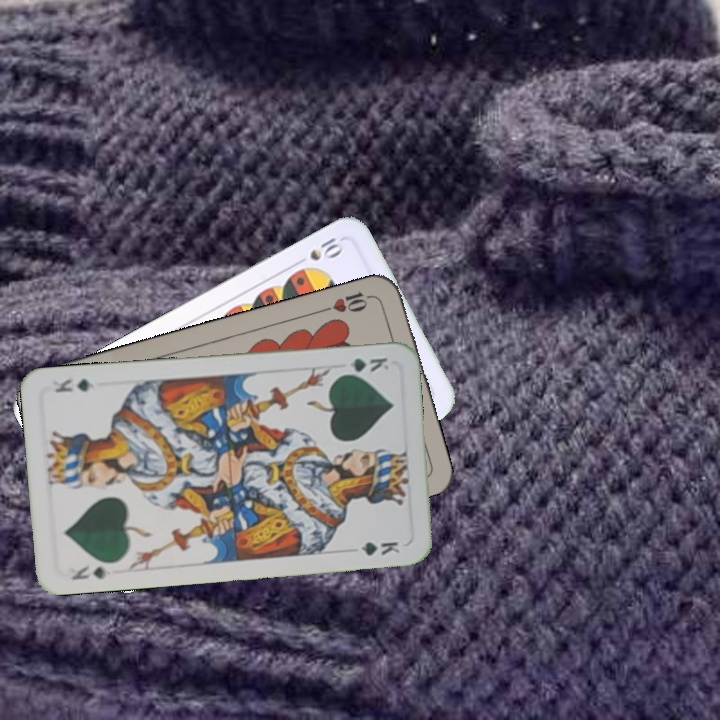GK: (335, 353, 392, 378), (68, 561, 109, 583)
H10: (318, 287, 377, 315)
S10: (290, 233, 347, 274)
